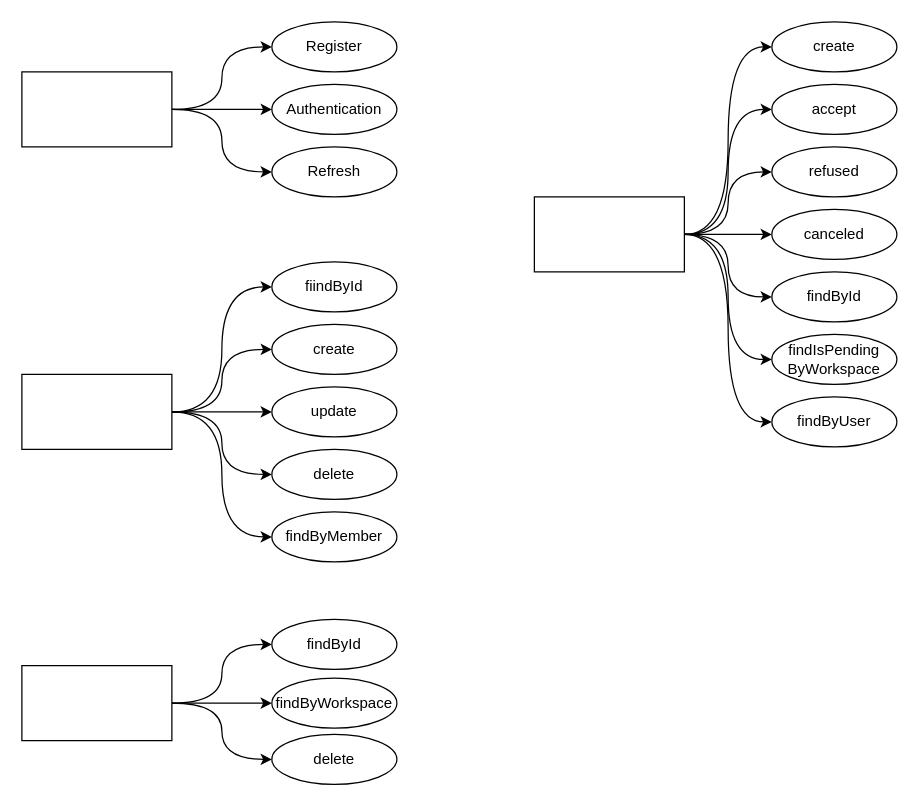
Some shapes in this 919 by 806 pixel diagram are drawn without their labels. Here are the shapes that lost their labels. From the top down, the centre of each, then its label:
(96,109): Auth
(608,234): invite
(96,411): Workspace
(96,702): Member
